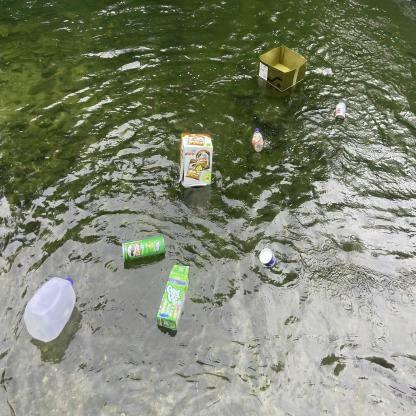Metal: (118, 234, 168, 265), (333, 98, 348, 123)
Plastic: (22, 272, 81, 346), (248, 124, 268, 154)
Trash: (256, 242, 280, 272)
